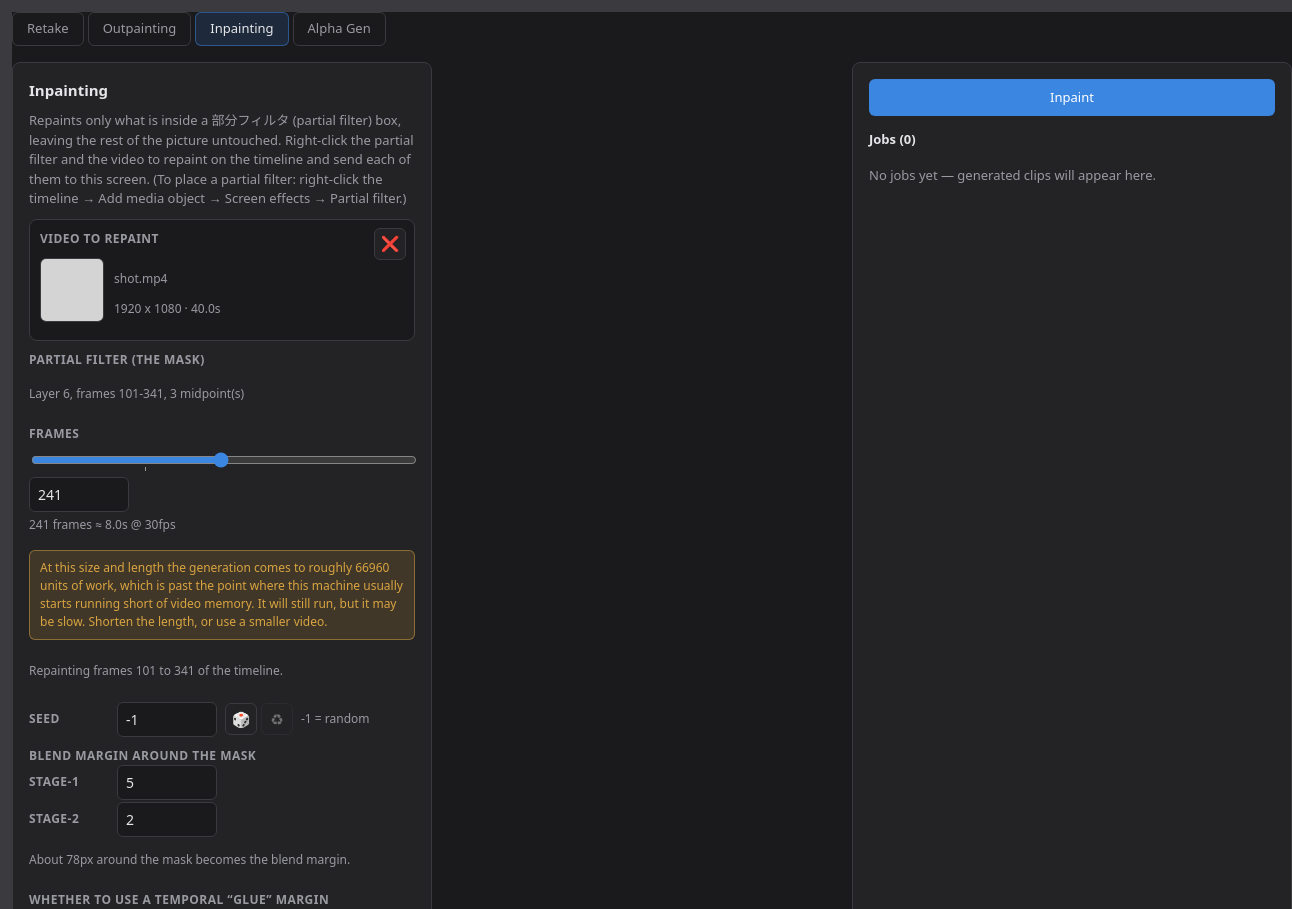
EditScreen — Inpainting の Generate › 送信が失敗したら席を巻き戻す
What coordinates should you click on to do the following:
click the button "Inpaint"
I would click on:
 (1072, 97)
Its box is [869, 78, 1275, 116].
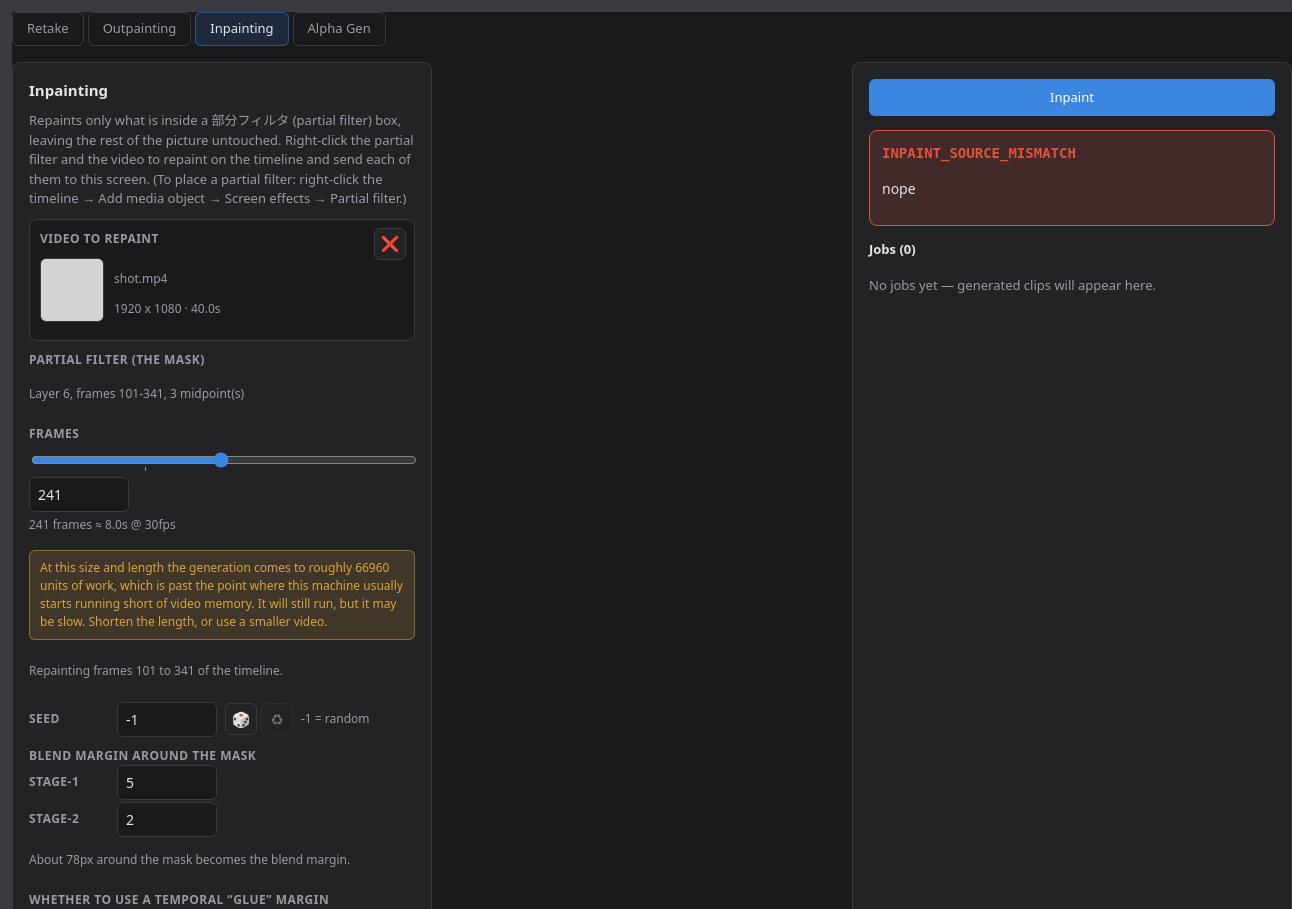
Now the text "INPAINT_SOURCE_MISMATCH" is shown, box [882, 145, 1076, 161]
